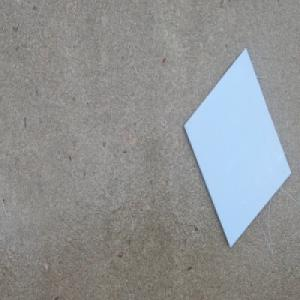PaintChip: (184, 45, 293, 248)
